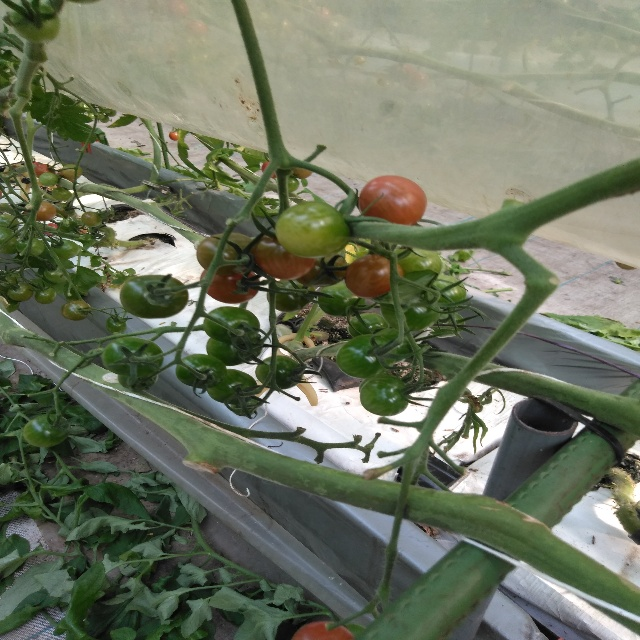l_fully_ripened: (358, 175, 428, 226), (199, 269, 261, 304), (290, 621, 355, 640), (34, 164, 55, 179)
l_green: (274, 200, 353, 259), (119, 274, 189, 320), (335, 334, 399, 379), (101, 337, 164, 378), (380, 292, 442, 332), (203, 306, 261, 344), (10, 2, 62, 42), (359, 375, 409, 416), (206, 368, 259, 405), (174, 353, 226, 389), (206, 334, 262, 367), (317, 282, 366, 317), (267, 279, 317, 313), (255, 355, 303, 390), (22, 413, 70, 448), (374, 327, 414, 363), (387, 249, 442, 275), (428, 275, 467, 307), (425, 308, 465, 338), (347, 313, 390, 337), (118, 371, 159, 390), (230, 395, 259, 417), (51, 239, 79, 259), (16, 237, 44, 257), (7, 283, 33, 302), (0, 226, 17, 254), (44, 266, 69, 284), (35, 286, 57, 304), (0, 213, 20, 232), (106, 315, 127, 333), (60, 164, 82, 180), (80, 212, 102, 227), (54, 203, 75, 218), (58, 219, 79, 234), (38, 172, 58, 187), (52, 188, 72, 202), (288, 176, 300, 193)
l_half_ripened: (252, 235, 315, 281), (344, 253, 404, 300), (196, 232, 257, 275), (295, 252, 347, 286), (23, 201, 56, 222), (63, 301, 90, 321), (291, 167, 313, 179)
